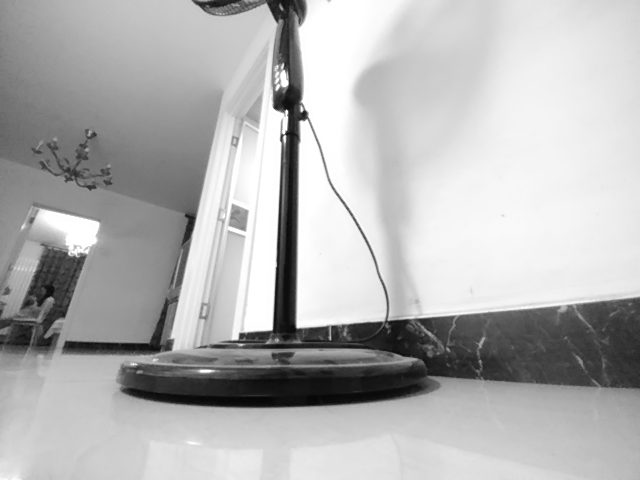bar stool: (115, 305, 431, 409)
